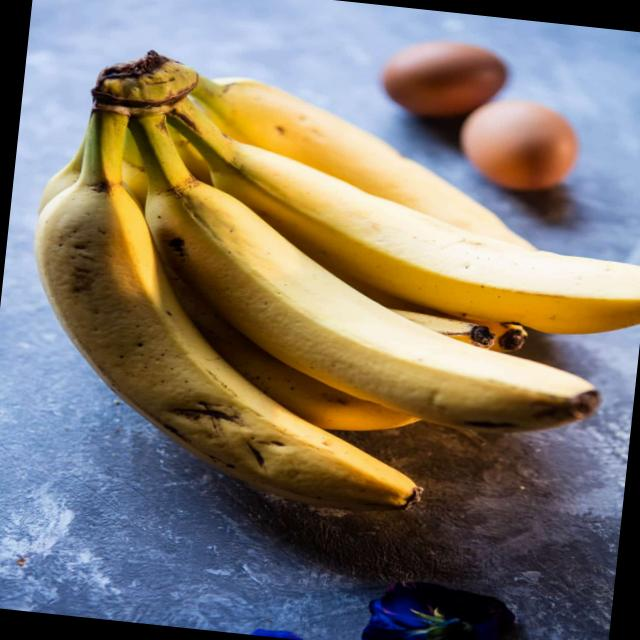banana: (0, 173, 456, 550), (91, 164, 628, 457), (142, 57, 578, 306), (162, 126, 640, 349)
